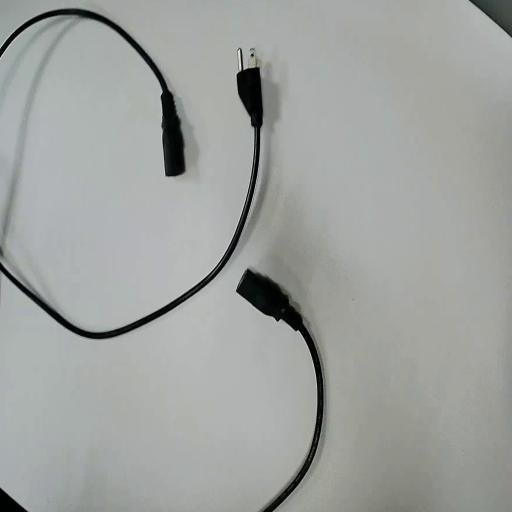wire: (0, 68, 262, 337), (0, 10, 184, 175), (237, 270, 323, 511)
